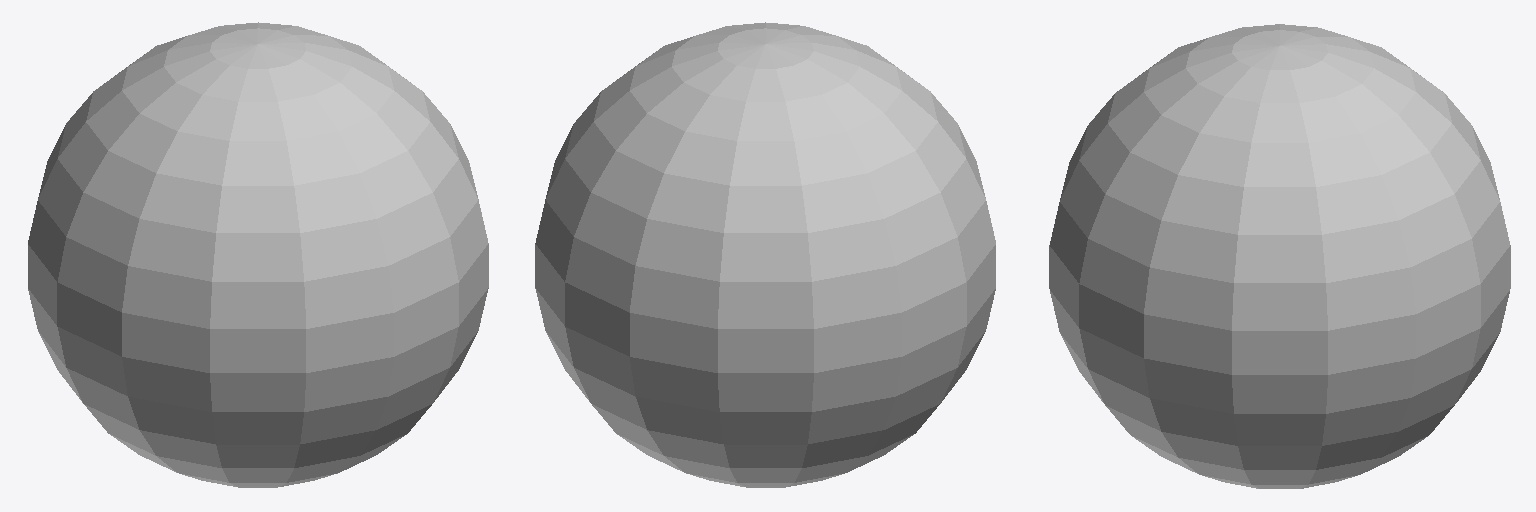
The model's file is Ball.obj.
3 views of the same model, side by side, from view 1: azimuth 30°, elevation 25°; view 2: azimuth 150°, elevation 25°; view 3: azimuth 270°, elevation 25° (orthographic).
Visible parts, largest first — view 1: Sphere_Sphere.002; view 2: Sphere_Sphere.002; view 3: Sphere_Sphere.002.
Boxes of the visible parts, <box> form: Sphere_Sphere.002: <box>28,22,488,487</box>; Sphere_Sphere.002: <box>535,22,995,487</box>; Sphere_Sphere.002: <box>1049,24,1510,488</box>.
Bounding box in the file's own units: 1.18 × 1.19 × 1.18.